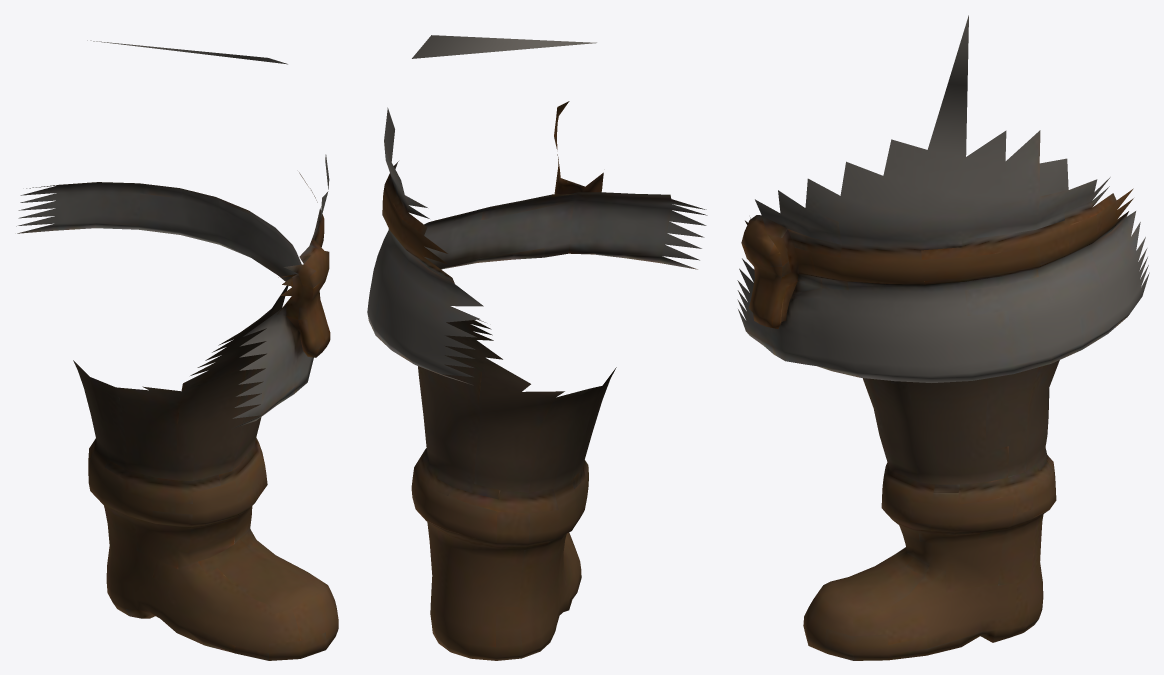
Rendered from dwarf-legL.glb.
3 renders of one model, left to right at view 1: azimuth 30°, elevation 25°; view 2: azimuth 150°, elevation 25°; view 3: azimuth 270°, elevation 25°, orthographic. The views are drawn at different scales.
Visible parts, largest first — view 1: dwarf-legL; view 2: dwarf-legL; view 3: dwarf-legL.
Part boxes in pixels (x1,y1,x2,y2): dwarf-legL: (16,40,338,660); dwarf-legL: (367,35,707,660); dwarf-legL: (737,15,1149,660).
Size of the model in its own units: 0.1579 by 0.43 by 0.2869.
1 material, 1 textured.
